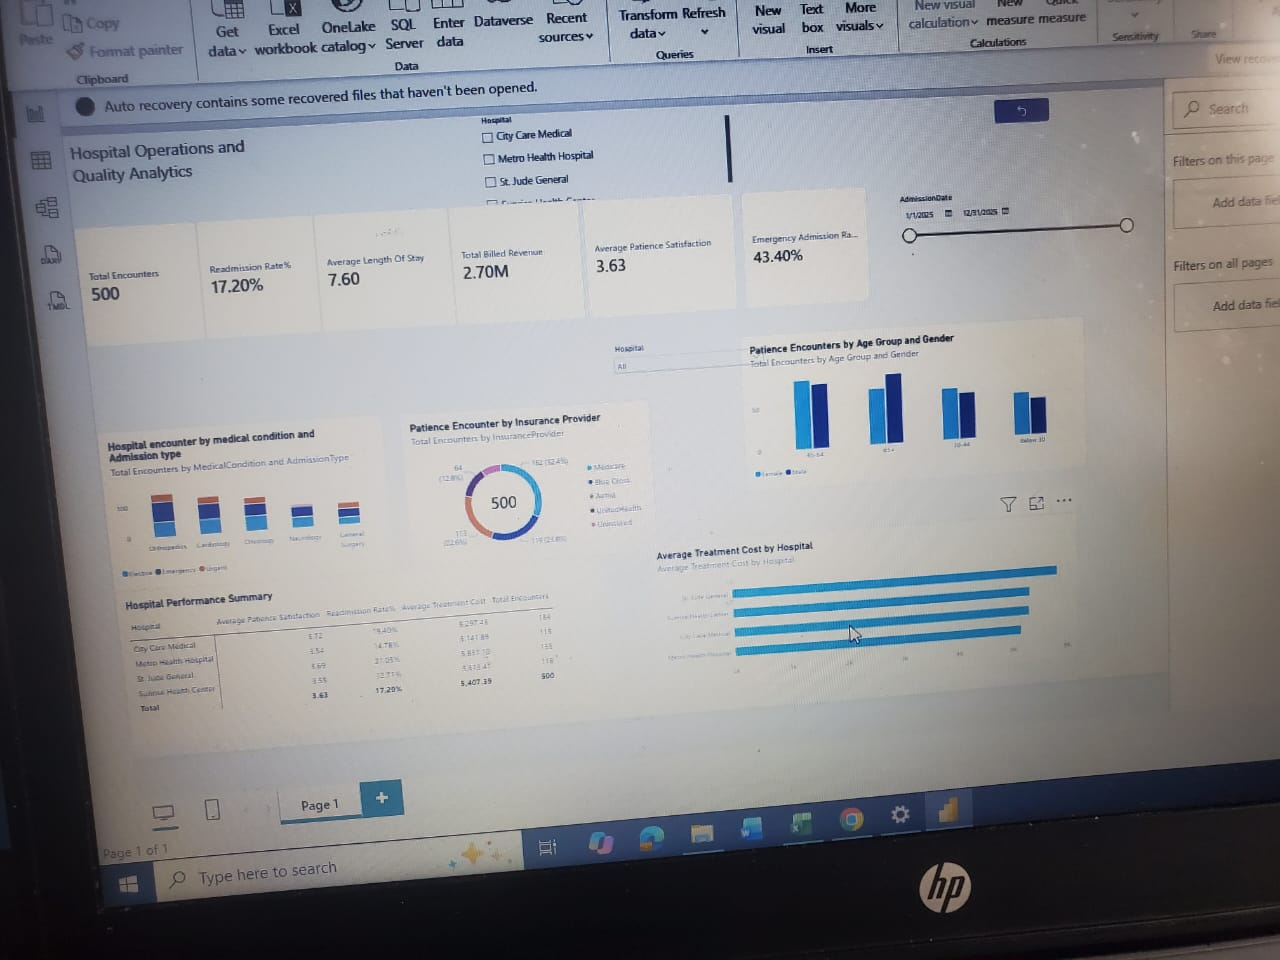

The page's visual inventory and layout, read from the dashboard file:
{"tool":"powerbi","page":{"name":"Page 1","canvas":[1920,1080],"ordinal":0},"visuals":[{"type":"cardVisual","fields":{"Data":["Measures (2).Total Encounters"]},"box":[0,150.4,202.4,202.4],"z":0},{"type":"cardVisual","fields":{"Data":["Measures (2).Total Billed Revenue"]},"box":[630.4,150.4,225.5,202.4],"z":1000},{"type":"cardVisual","fields":{"Data":["Measures (2).Average Length Of Stay"]},"box":[401,150.4,229.4,202.4],"z":2000},{"type":"cardVisual","fields":{"Data":["Measures (2).Readmission Rate%"]},"box":[202.4,150.4,198.6,202.4],"z":3000},{"type":"cardVisual","fields":{"Data":["Measures (2).Average Patience Satisfaction"]},"box":[861.7,150.4,266,202.4],"z":4000},{"type":"columnChart","title":"Hospital encounter by medical condition and Admission type","fields":{"Category":["Hospital Encounters Data.MedicalCondition"],"Series":["Hospital Encounters Data.AdmissionType"],"Y":["Measures (2).Total Encounters"]},"box":[0,497.3,487.7,279.5],"z":5000},{"type":"clusteredBarChart","title":"Average Treatment Cost by Hospital","fields":{"Category":["Hospital Encounters Data.Hospital"],"Y":["Measures (2).Average Treatment Cost"]},"box":[938.8,759.5,805.8,279.5],"z":6000},{"type":"donutChart","title":"Patience Encounter by Insurance Provider","fields":{"Category":["Hospital Encounters Data.InsuranceProvider"],"Y":["Measures (2).Total Encounters"]},"box":[516.6,499.3,443.4,277.6],"z":7000},{"type":"clusteredColumnChart","title":"Patience Encounters by Age Group and Gender","fields":{"Category":["Hospital Encounters Data.Age Group"],"Series":["Hospital Encounters Data.Gender"],"Y":["Measures (2).Total Encounters"]},"box":[1127.7,399,638.1,279.5],"z":8000},{"type":"pivotTable","title":"Hospital Performance Summary","fields":{"Rows":["Hospital Encounters Data.Hospital"],"Values":["Measures (2).Average Patience Satisfaction","Measures (2).Readmission Rate%","Measures (2).Average Treatment Cost","Measures (2).Total Encounters"]},"box":[0,776.9,855.9,279.5],"z":9000},{"type":"slicer","fields":{"Values":["Hospital Encounters Data.AdmissionDate"]},"box":[1418.8,167.7,447.2,185.1],"z":10000},{"type":"slicer","fields":{"Values":["Hospital Encounters Data.Hospital"]},"box":[894.5,399,280,280],"z":11000},{"type":"textbox","box":[881,352.8,277.6,215.9],"z":12000},{"type":"textbox","box":[9.6,9.6,327.7,123.4],"z":13000},{"type":"textbox","box":[1552,301,280,280],"z":14000},{"type":"actionButton","box":[1607.7,9.6,100,40],"z":15000},{"type":"slicer","fields":{"Values":["Hospital Encounters Data.Hospital"]},"box":[690.1,0,437.6,150.4],"z":15001},{"type":"cardVisual","fields":{"Data":["Measures (2).Emergency Admission Rate%"]},"box":[1141.2,150.4,225.5,202.4],"z":15002}]}

Visuals, with their boxes on the page's 1920x1080 design canvas (x1, y1, x2, y2). These are canvas units, not pixel positions in the 1280x960 screenshot, which may show the page scaled, cropped or inside an application window:
cardVisual - Measures (2).Total Encounters: rect(0, 150, 202, 353)
cardVisual - Measures (2).Total Billed Revenue: rect(630, 150, 856, 353)
cardVisual - Measures (2).Average Length Of Stay: rect(401, 150, 630, 353)
cardVisual - Measures (2).Readmission Rate%: rect(202, 150, 401, 353)
cardVisual - Measures (2).Average Patience Satisfaction: rect(862, 150, 1128, 353)
"Hospital encounter by medical condition and Admission type" columnChart: rect(0, 497, 488, 777)
"Average Treatment Cost by Hospital" clusteredBarChart: rect(939, 760, 1745, 1039)
"Patience Encounter by Insurance Provider" donutChart: rect(517, 499, 960, 777)
"Patience Encounters by Age Group and Gender" clusteredColumnChart: rect(1128, 399, 1766, 678)
"Hospital Performance Summary" pivotTable: rect(0, 777, 856, 1056)
slicer - Hospital Encounters Data.AdmissionDate: rect(1419, 168, 1866, 353)
slicer - Hospital Encounters Data.Hospital: rect(894, 399, 1174, 679)
textbox: rect(881, 353, 1159, 569)
textbox: rect(10, 10, 337, 133)
textbox: rect(1552, 301, 1832, 581)
actionButton: rect(1608, 10, 1708, 50)
slicer - Hospital Encounters Data.Hospital: rect(690, 0, 1128, 150)
cardVisual - Measures (2).Emergency Admission Rate%: rect(1141, 150, 1367, 353)
